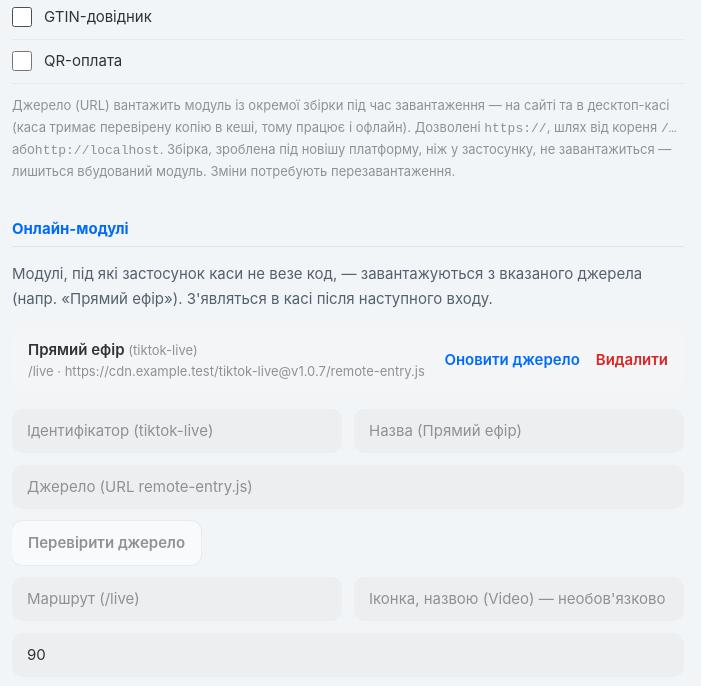
Settings — repointing an online-only module › confirms a matching source with its version
This screenshot has width=701, height=686.
(page scrolled)
Click the button "Оновити джерело" at coordinates (512, 360), box [444,342,580,378]
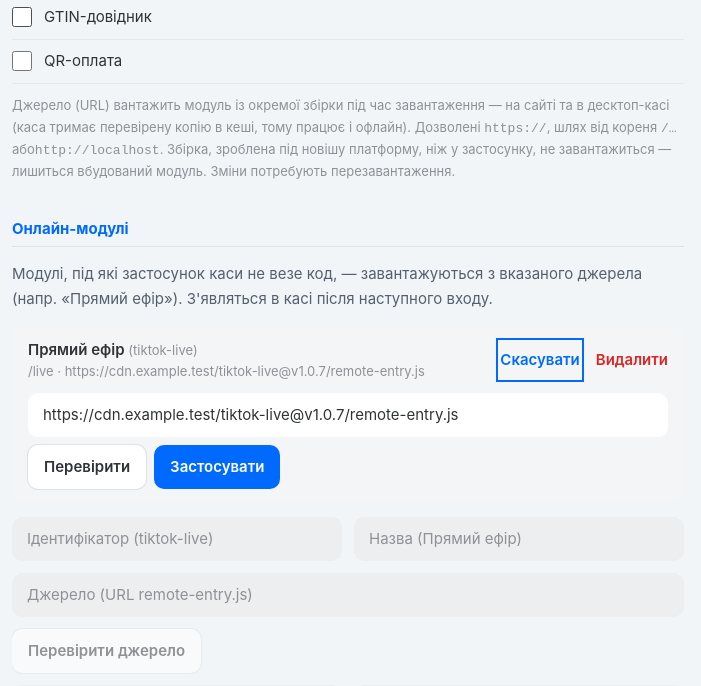
Replace the text in the field named "Джерело модуля tiktok-live" with "https://cdn.example.test/tiktok-live@v1.0.8/remote-entry.js" at coordinates (348, 415), box [28,393,668,437]
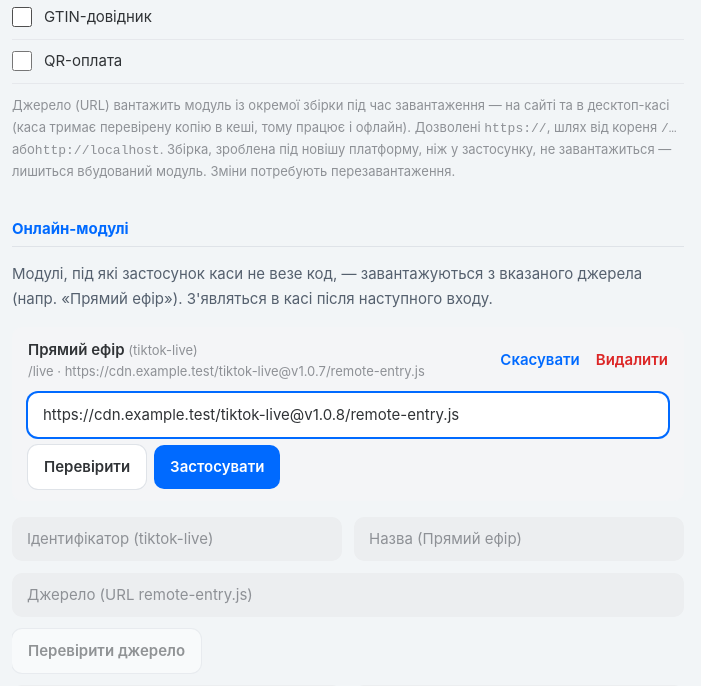
Click the button "Перевірити" at coordinates (87, 467), box [28,445,146,489]
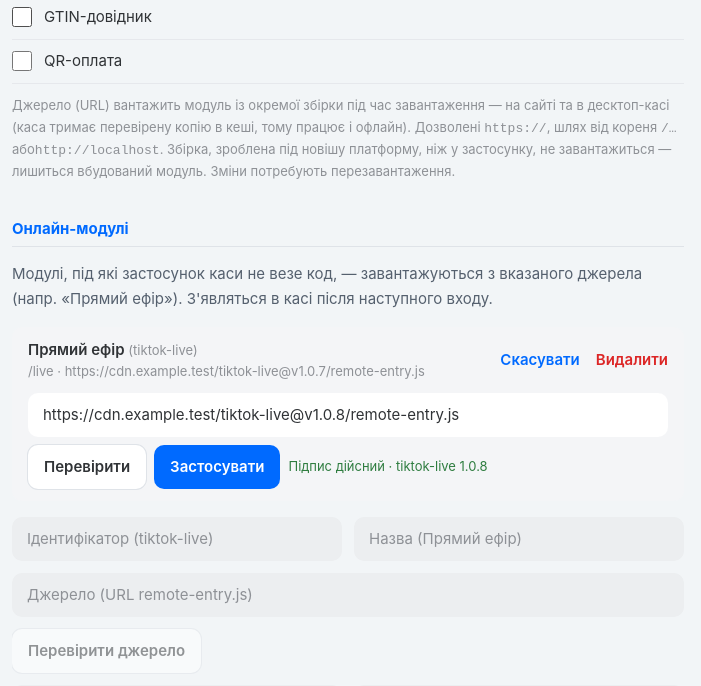
Now the text "Підпис дійсний · tiktok-live 1.0.8" is shown, box [288,457,488,477]
